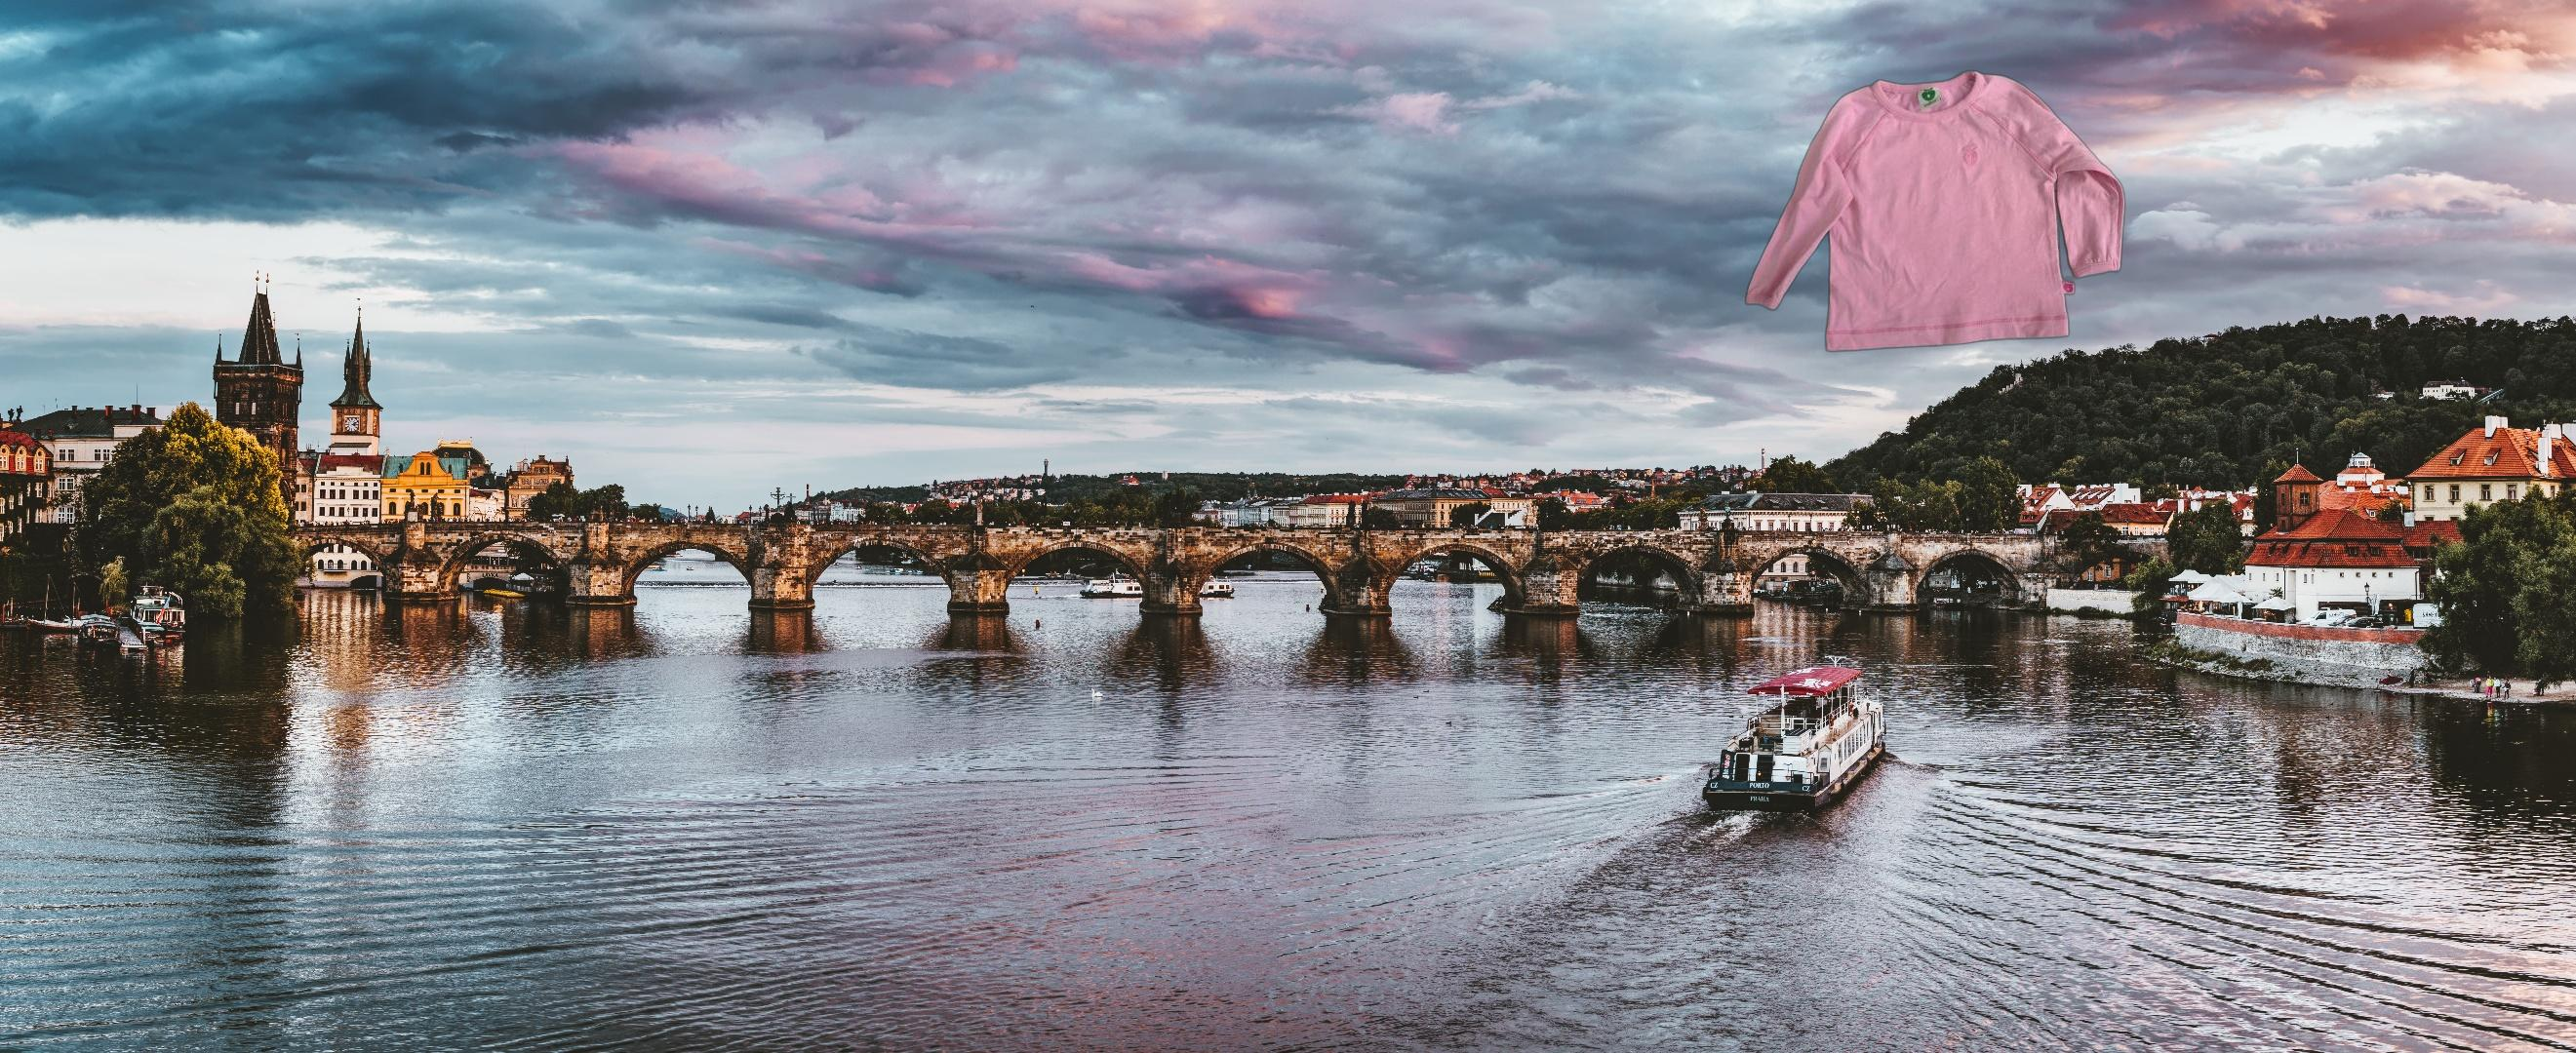clothes: (1741, 67, 2129, 353)
